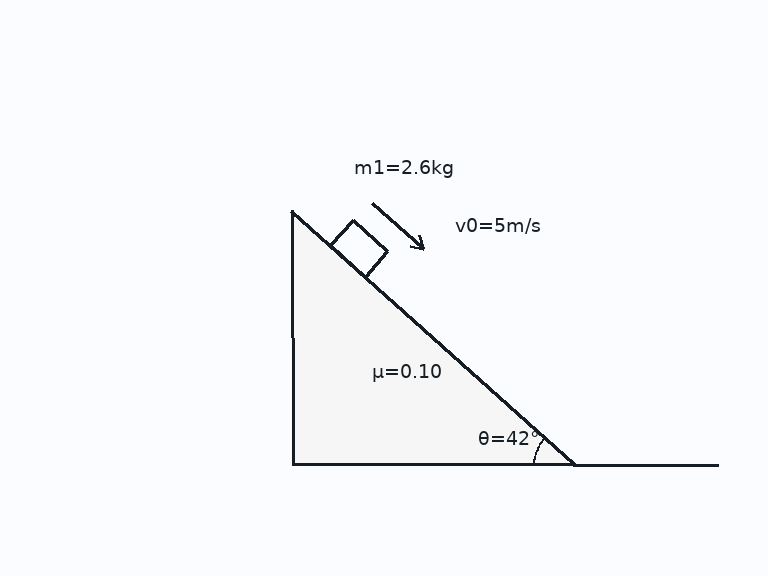block: (328, 218, 389, 278)
ramp: (290, 209, 576, 467)
